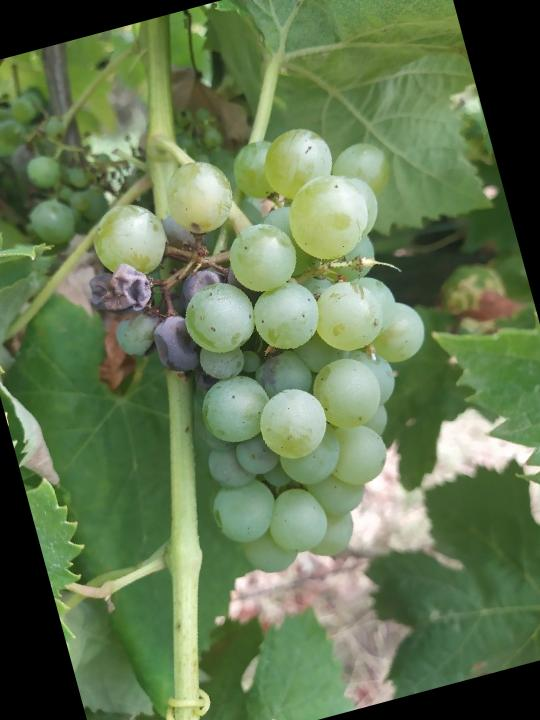grape: (57, 105, 479, 605)
